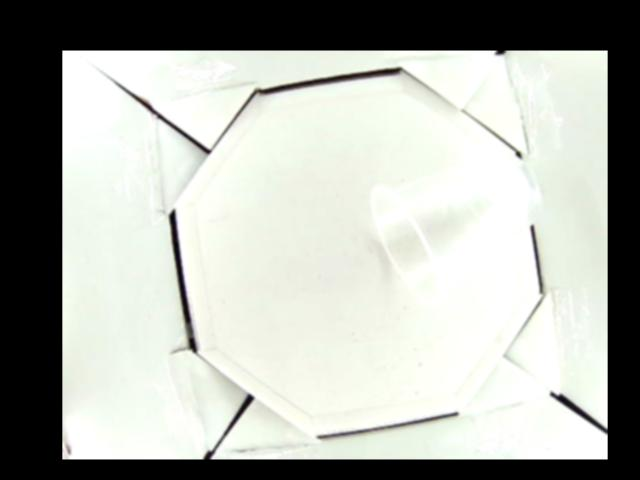Cup: (368, 151, 543, 306)
